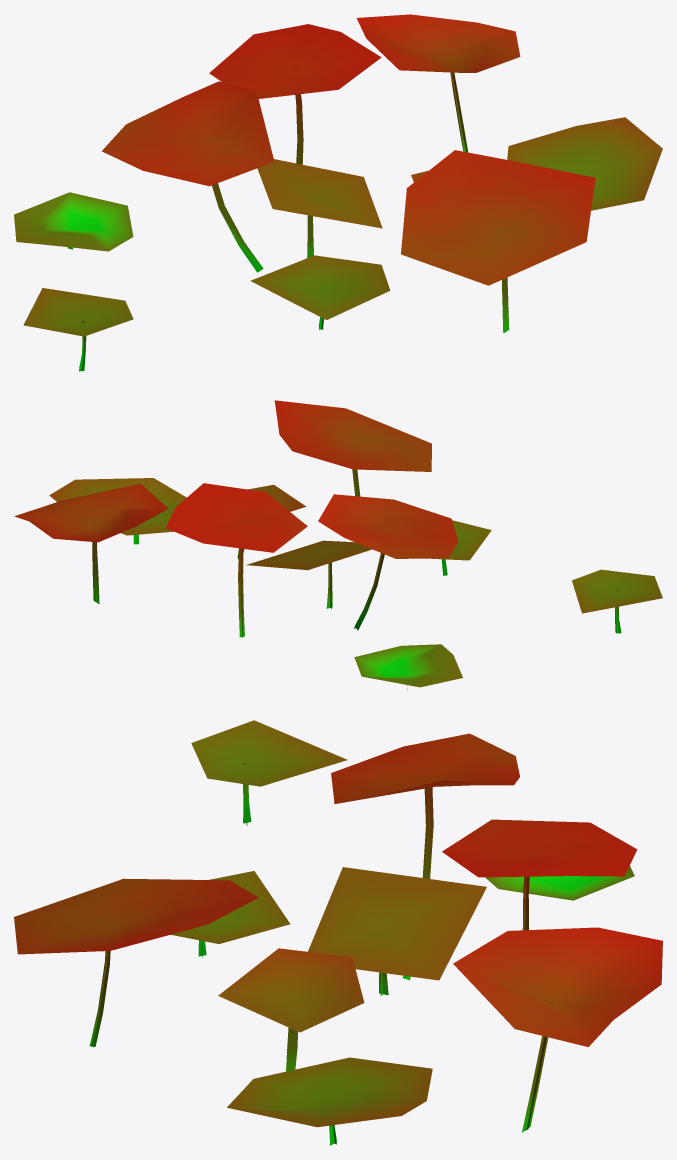
Rendered from Var1_LOD0.fbx.
3 renders of one model, top to bottom at view 1: azimuth 30°, elevation 25°; view 2: azimuth 150°, elevation 25°; view 3: azimuth 270°, elevation 25°, orthographic. The views are drawn at different scales.
Parts seen in each view (by area): view 1: _e36e_Var1_LOD0; view 2: _e36e_Var1_LOD0; view 3: _e36e_Var1_LOD0.
Part boxes in pixels (x1=…): _e36e_Var1_LOD0: x1=14, y1=14, x2=662, y2=371; _e36e_Var1_LOD0: x1=14, y1=400, x2=662, y2=689; _e36e_Var1_LOD0: x1=14, y1=720, x2=662, y2=1145.
Size of the model in its own units: 26.74 by 6.45 by 18.26.
